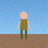person: (17, 12, 31, 39)
